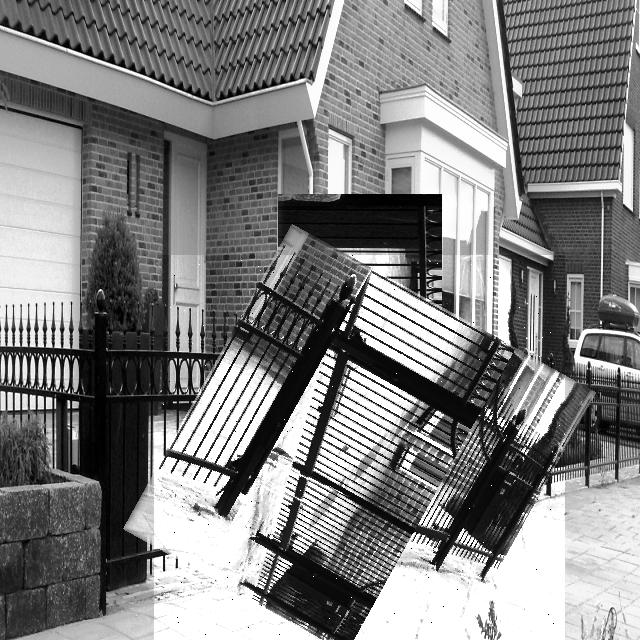fences: (154, 255, 565, 640)
